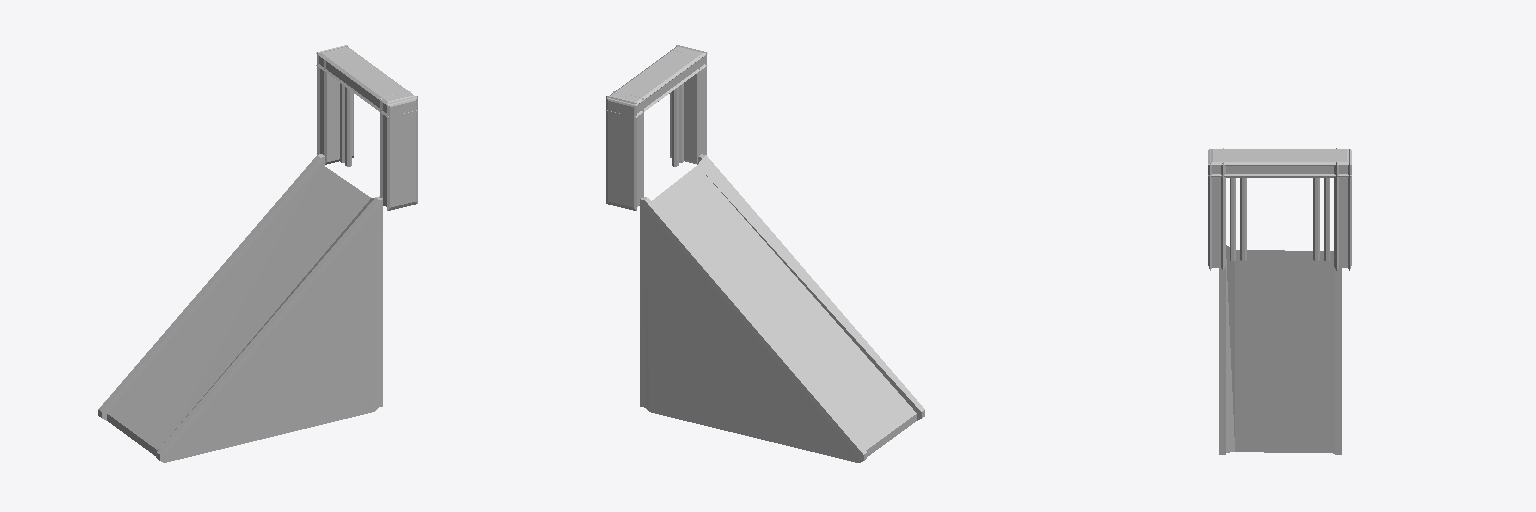
File: stare2.obj
3 views of the same model, side by side, from view 1: azimuth 30°, elevation 25°; view 2: azimuth 150°, elevation 25°; view 3: azimuth 270°, elevation 25° (orthographic).
Visible parts, largest first — view 1: Plane.012; view 2: Plane.012; view 3: Plane.012.
Boxes of the visible parts, <box> form: Plane.012: <box>98,45,417,462</box>; Plane.012: <box>606,45,924,462</box>; Plane.012: <box>1208,148,1351,454</box>.
Bounding box in the file's own units: 17.95 × 20.96 × 8.79.